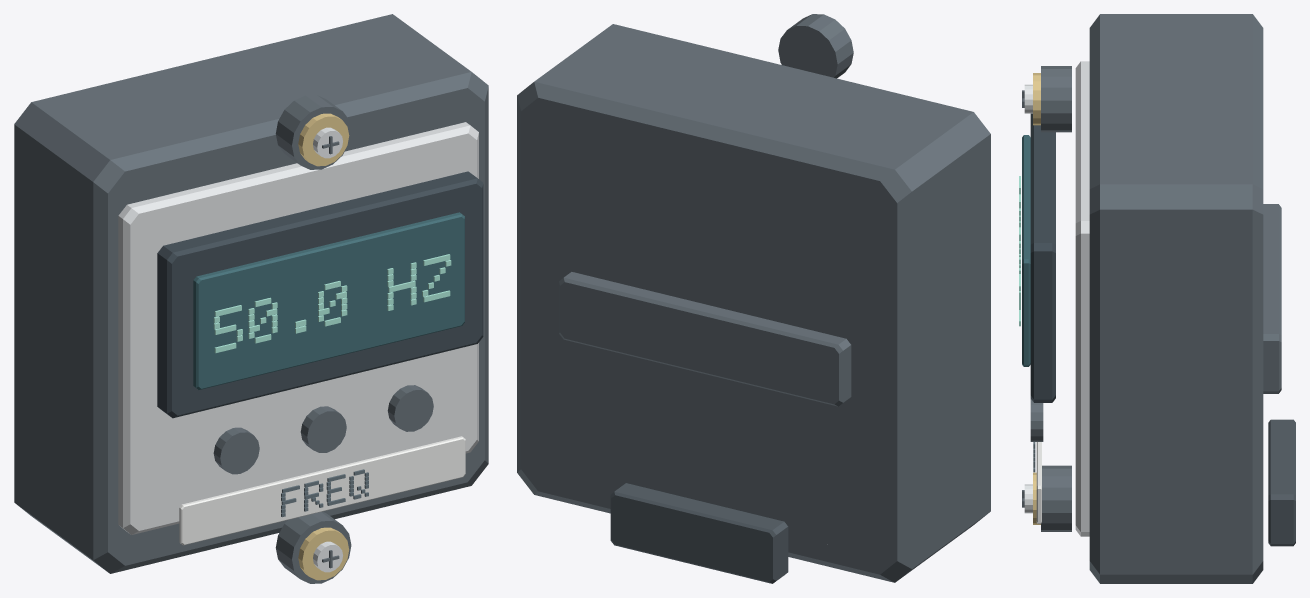
The model's file is frequencyMeter.glb.
3 renders of one model, left to right at view 1: azimuth 30°, elevation 25°; view 2: azimuth 150°, elevation 25°; view 3: azimuth 270°, elevation 25°, orthographic. The views are drawn at different scales.
Visible parts, largest first — view 1: frequencyMeter-preview; view 2: frequencyMeter-preview; view 3: frequencyMeter-preview.
Boxes of the visible parts, x1,y1,x2,y2 form: frequencyMeter-preview: (14, 14, 488, 583); frequencyMeter-preview: (517, 14, 990, 583); frequencyMeter-preview: (1019, 14, 1295, 583).
Size of the model in its own units: 2.08 by 2.4 by 1.31.
